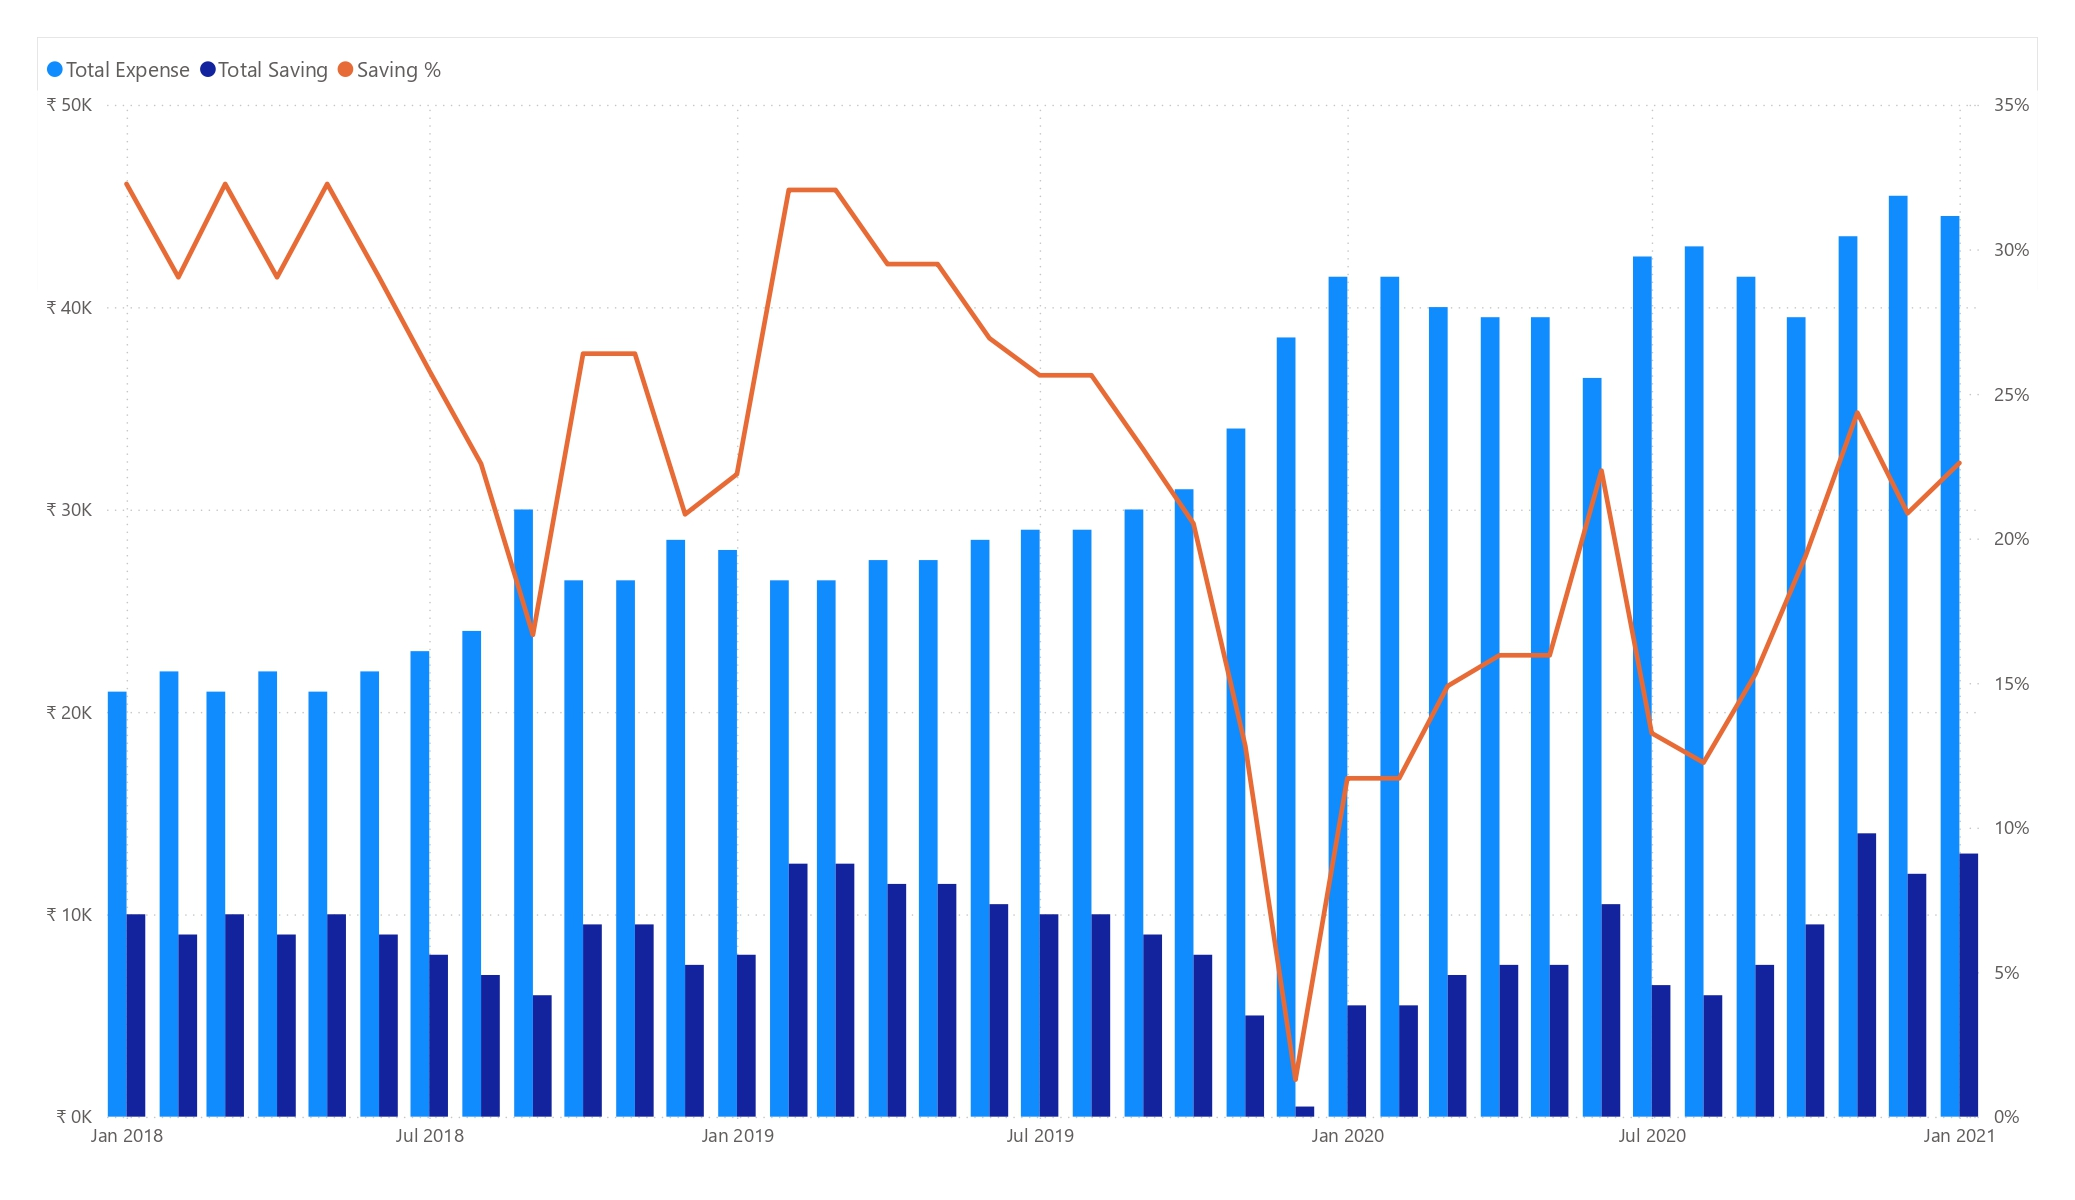

The page's visual inventory and layout, read from the dashboard file:
{"tool":"powerbi","page":{"name":"Page 3","canvas":[1280,720],"ordinal":2},"visuals":[{"type":"lineClusteredColumnComboChart","fields":{"Category":["FinData.Date"],"Y":["Table.Total Expense","Table.Total Saving"],"Y2":["Table.Saving %"]},"box":[0,0,1280.5,720.7],"z":0}]}

Visuals, with their boxes in screenshot pixels (x1, y1, x2, y2):
lineClusteredColumnComboChart - FinData.Date x Table.Total Expense: x1=38 y1=38 x2=2038 y2=1162
